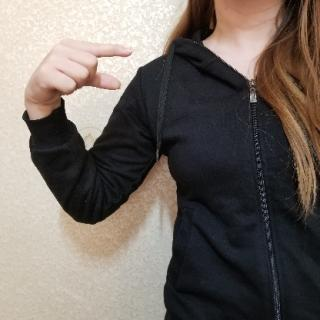DELL: (19, 34, 135, 109)
